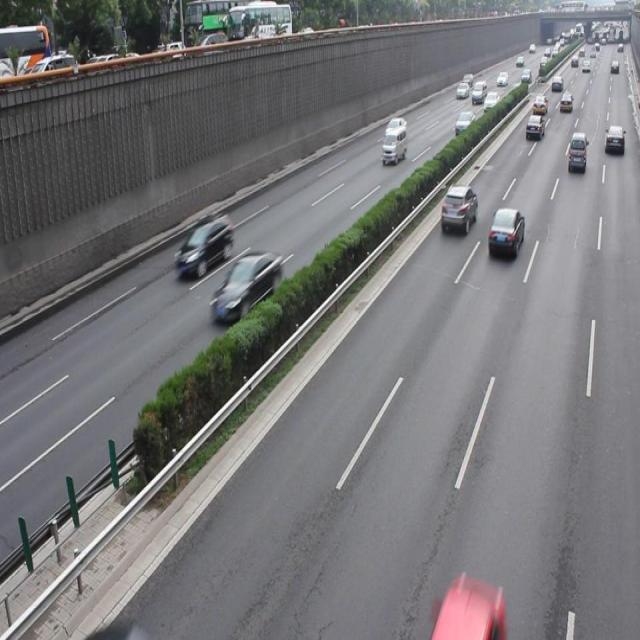car: (211, 249, 281, 322), (175, 212, 233, 280), (440, 182, 476, 234), (487, 206, 524, 256)
truck: (382, 124, 406, 166), (567, 132, 586, 174)
